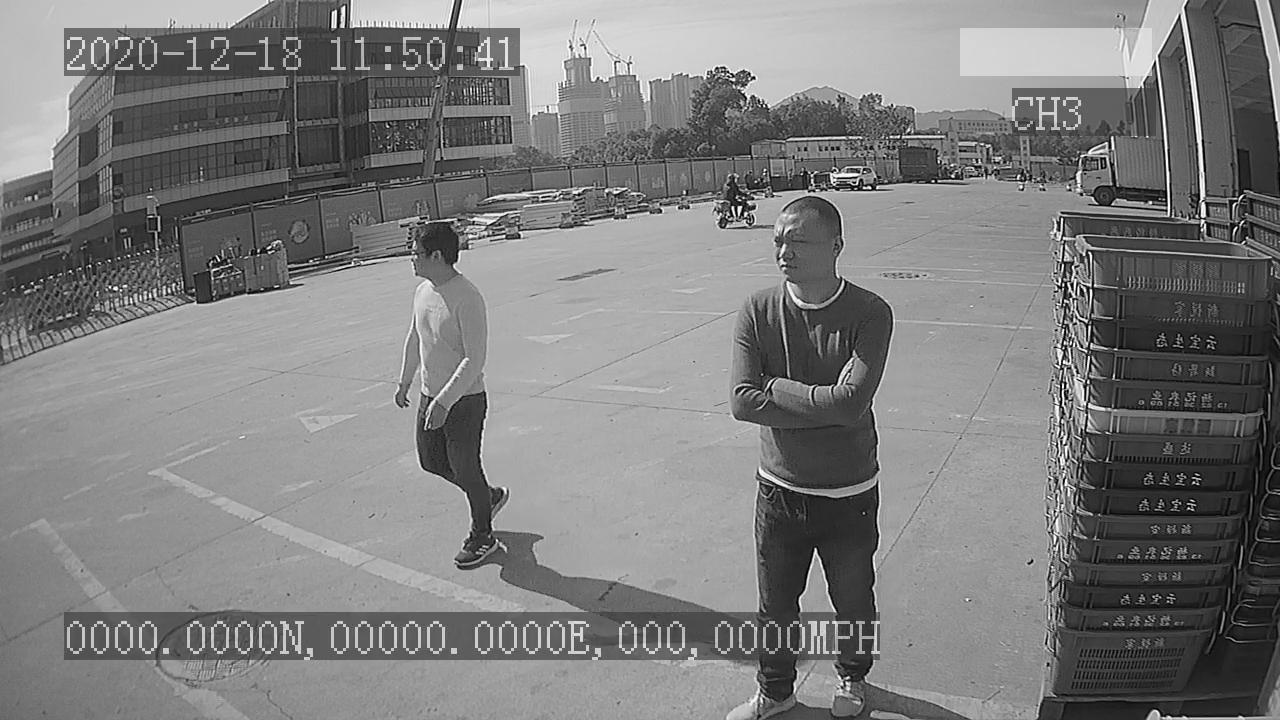person: (386, 217, 515, 574)
